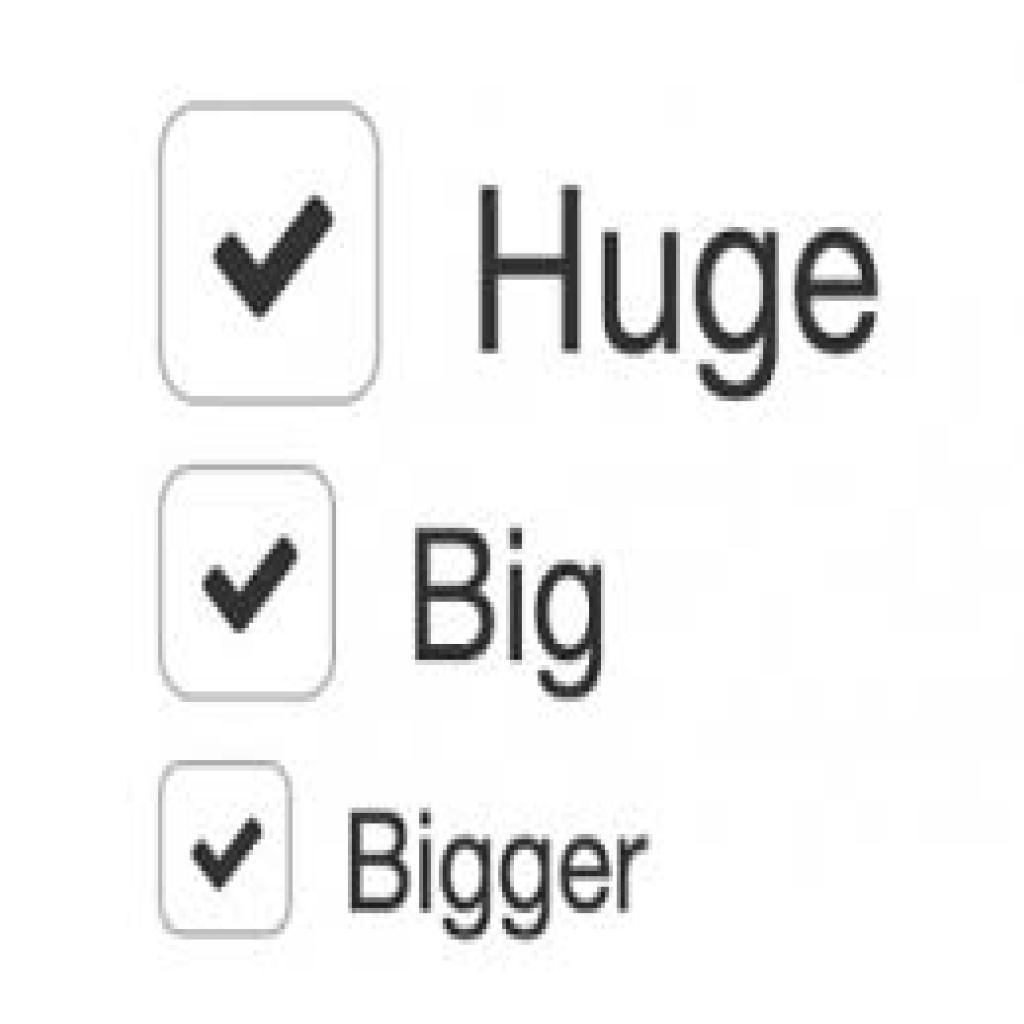checkbox: (144, 84, 389, 415), (149, 453, 343, 714), (149, 747, 302, 950)
